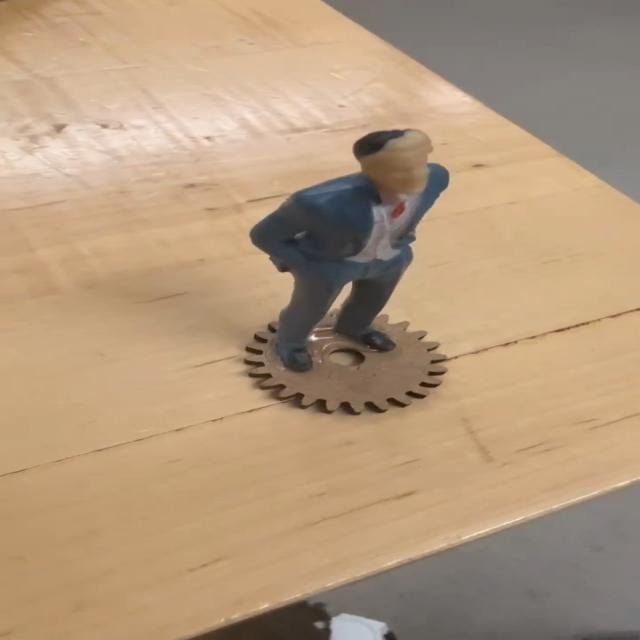Authorized: (249, 128, 460, 382)
